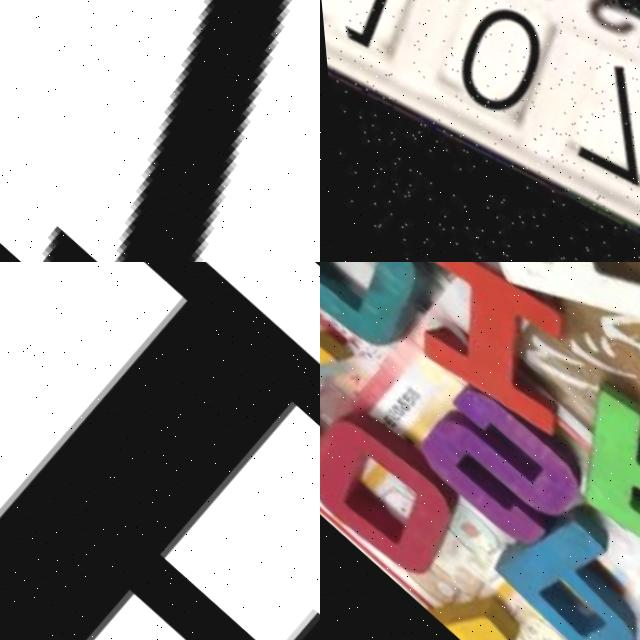0: (386, 0, 593, 158)
1: (320, 0, 457, 90)
7: (508, 15, 640, 218)
D: (320, 262, 440, 360)
E: (0, 262, 320, 640)
F: (533, 369, 640, 597)
H: (414, 262, 640, 384)
I: (380, 262, 611, 448)
L: (0, 0, 320, 262)
O: (320, 396, 474, 590)
P: (475, 487, 640, 640)
R: (405, 563, 583, 640)
S: (396, 364, 593, 554)
X: (320, 267, 360, 457)
